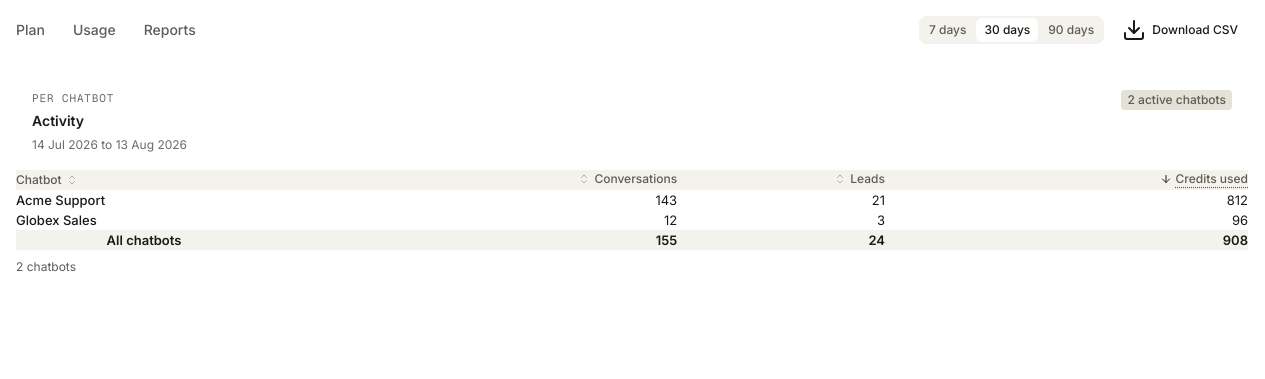
Scenario: the CSV download › surfaces a failed export without losing the table
This screenshot has width=1265, height=379.
Expected: the table is shown, [16,170,1248,250]
Step 1. Click the button "Download CSV" → (1180, 30), box [1112,16,1248,44]
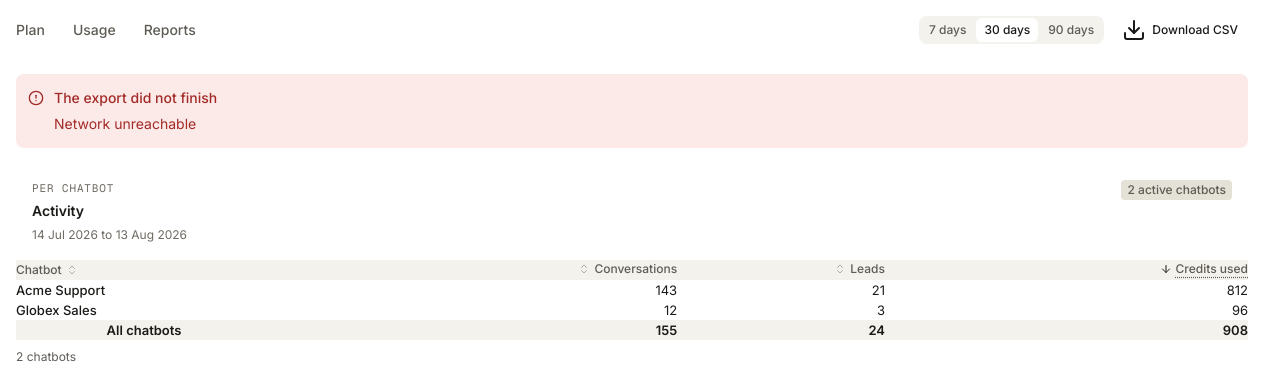
Expected: the table is shown, [16,260,1248,340]
Result: the text "Network unreachable" is shown at [54,115,196,132]
